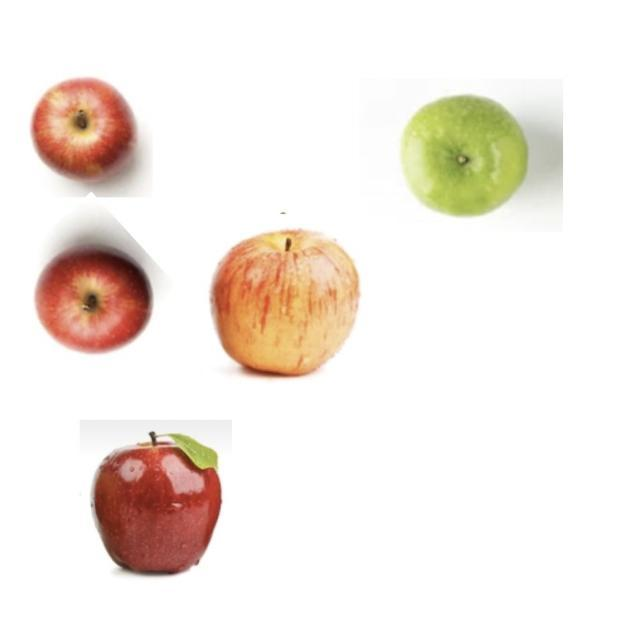Fresh Apple: (207, 222, 358, 385), (82, 432, 225, 582), (397, 90, 535, 230), (28, 243, 158, 355), (22, 75, 133, 185)
